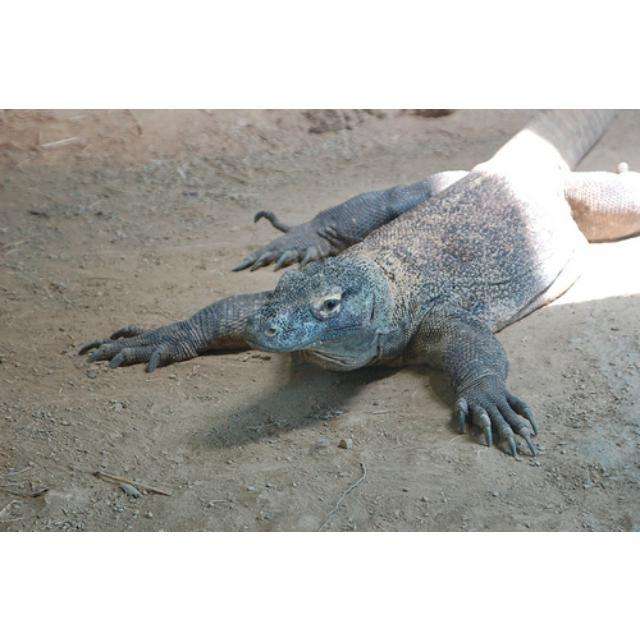KomodoDragon: (75, 108, 638, 458)
